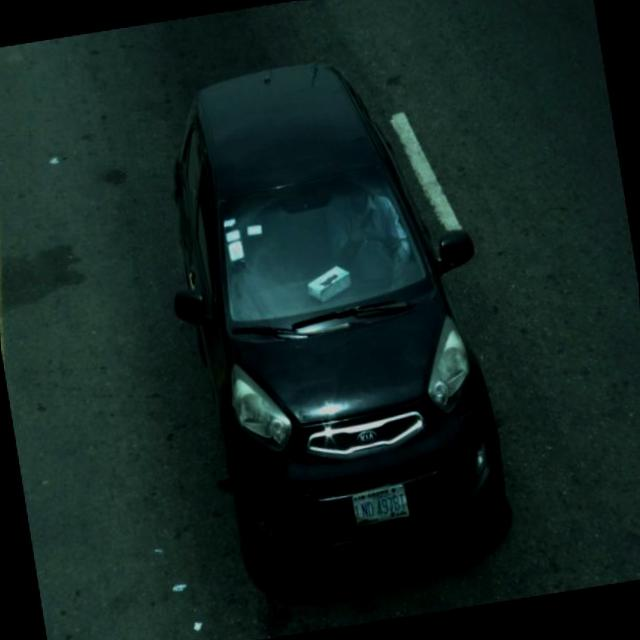person_with_seatbelt: (320, 172, 407, 302)
